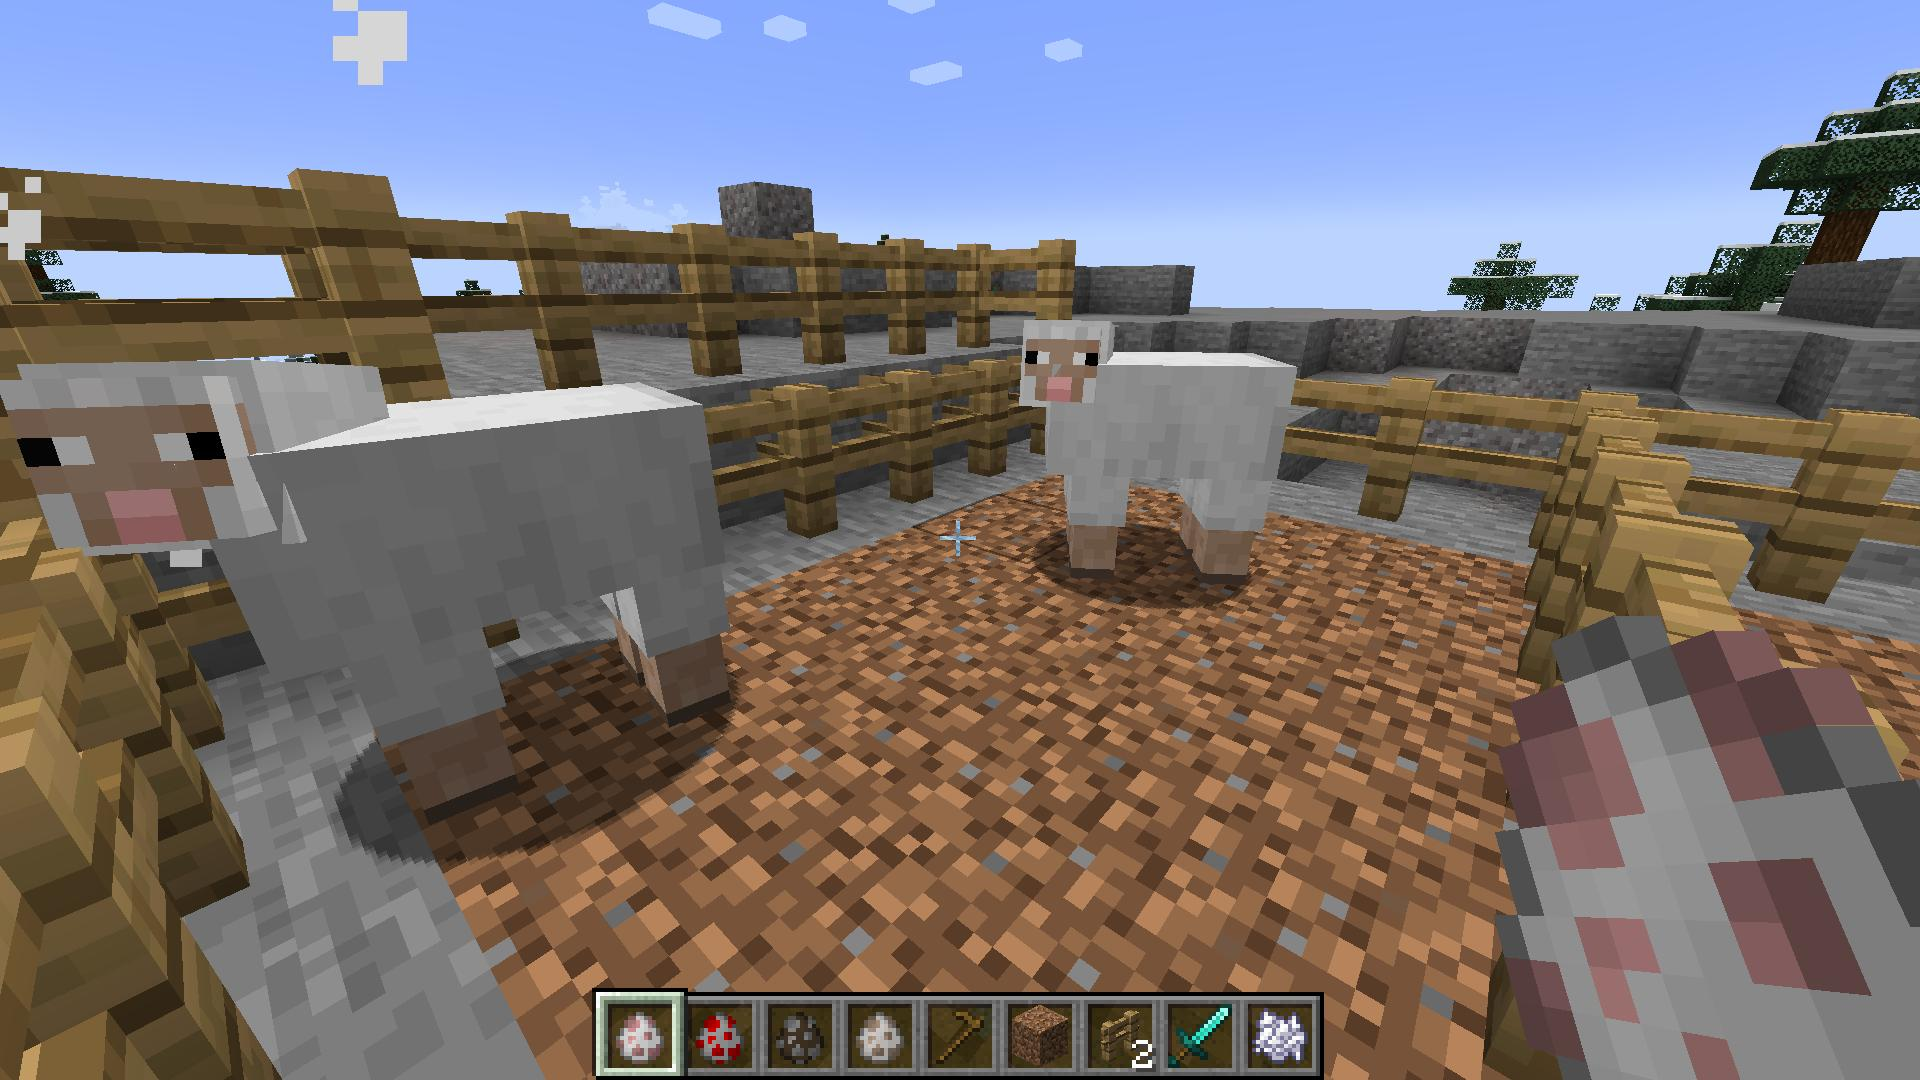sheep: (0, 355, 741, 828), (1018, 311, 1299, 587)
